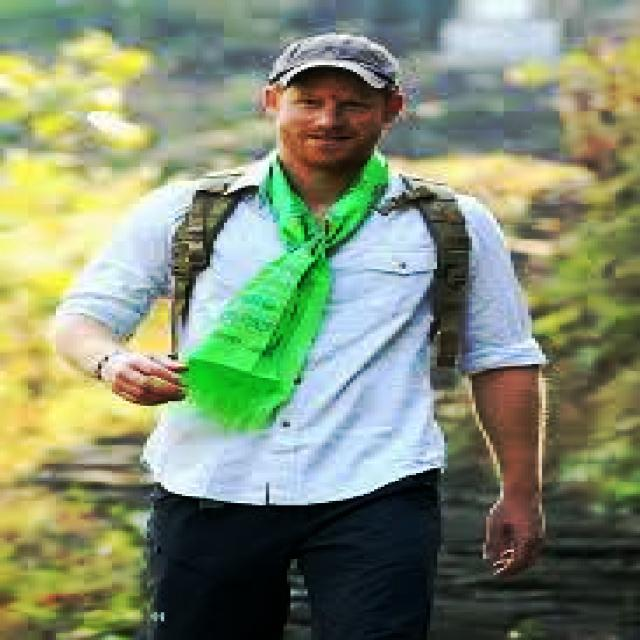TOPI: (252, 23, 398, 95)
